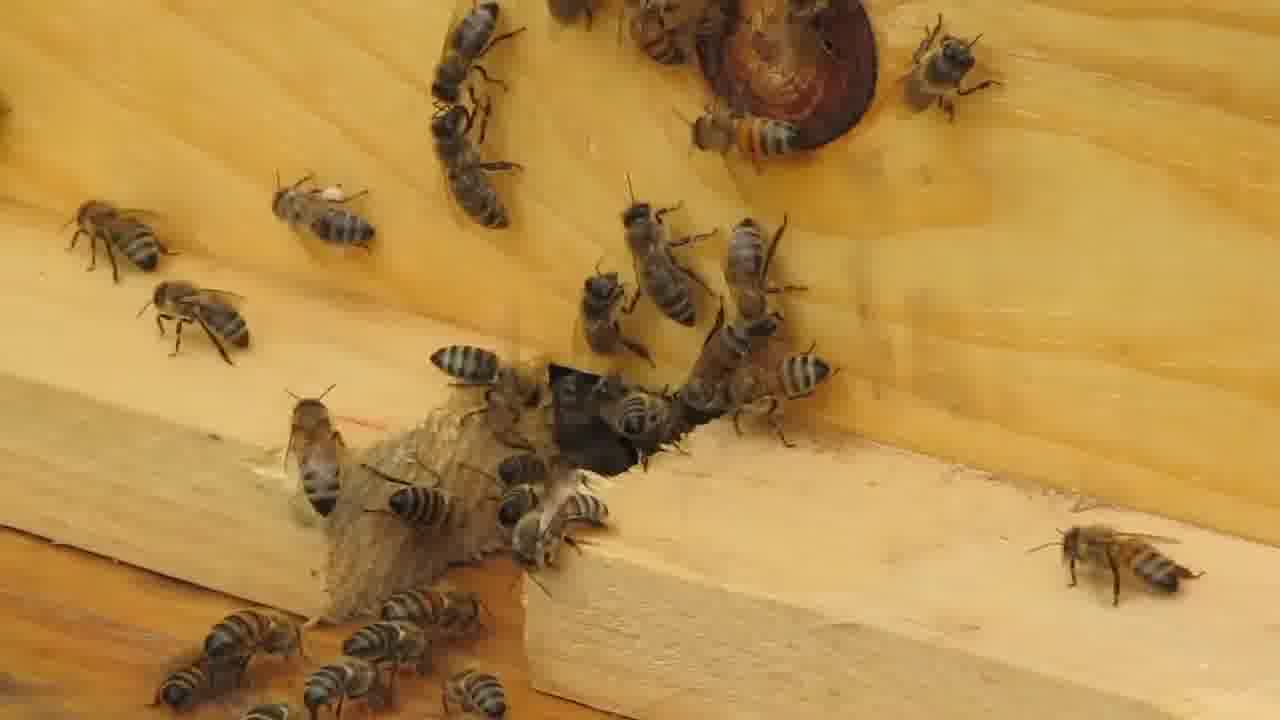pollen: (266, 164, 374, 265)
